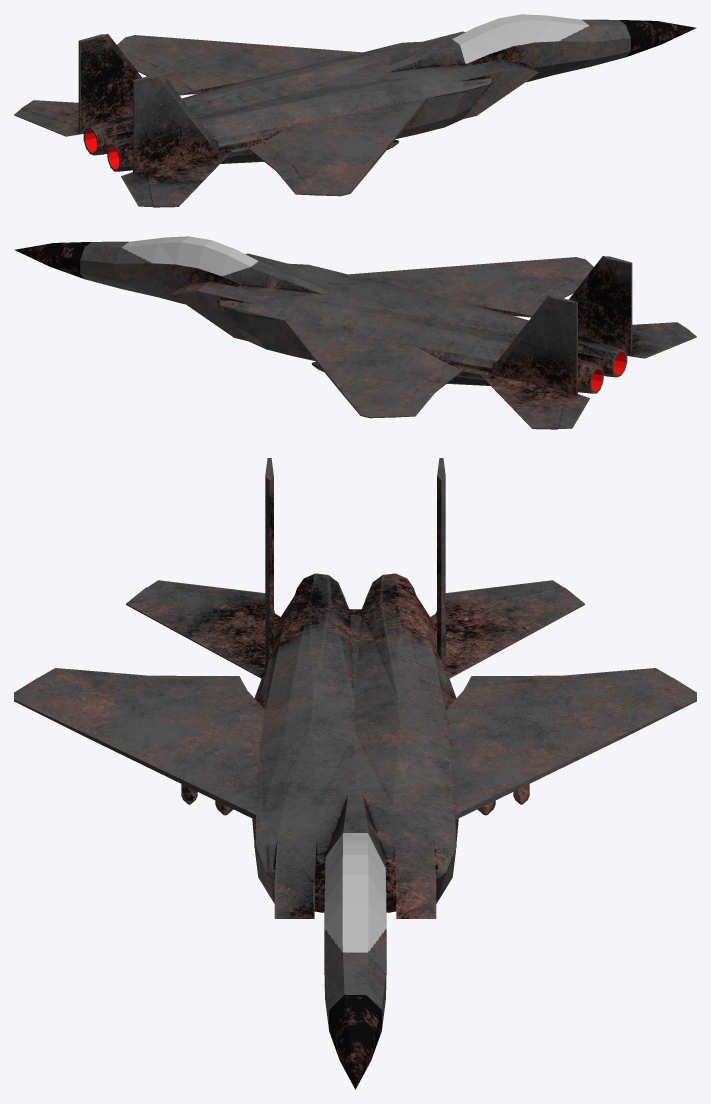
The model's file is aviao3.glb.
3 views of the same model, one above another, from view 1: azimuth 30°, elevation 25°; view 2: azimuth 150°, elevation 25°; view 3: azimuth 270°, elevation 25° (orthographic). The views are drawn at different scales.
Parts seen in each view (by area): view 1: f15 eagle; view 2: f15 eagle; view 3: f15 eagle.
Part boxes in pixels (x1,y1,x2,y2): f15 eagle: [14, 14, 696, 207]; f15 eagle: [14, 236, 696, 429]; f15 eagle: [14, 458, 696, 1089].
Bounding box in the file's own units: 2.26 × 0.4222 × 1.36.
1 material, 1 textured.
